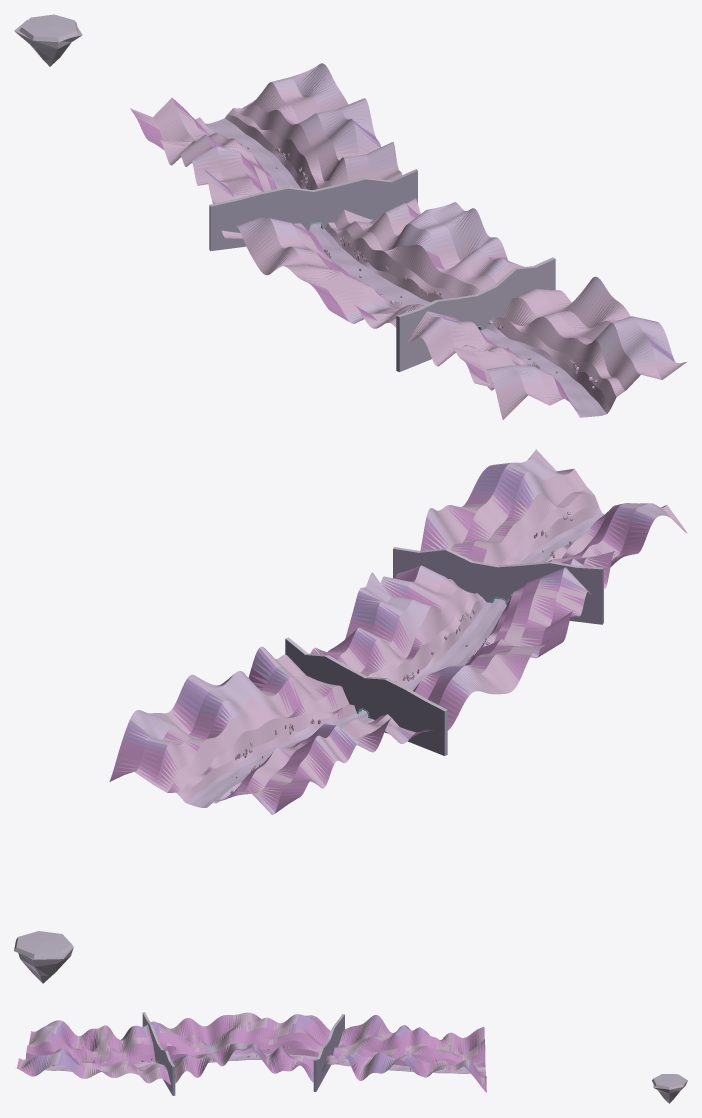
The model's file is level_4.glb.
3 renders of one model, top to bottom at view 1: azimuth 30°, elevation 25°; view 2: azimuth 150°, elevation 25°; view 3: azimuth 270°, elevation 25°, orthographic. The views are drawn at different scales.
Visible parts, largest first — view 1: terrain_3, terrain_1, terrain_0, terrain_6, terrain_5, wall_1, terrain_4, wall_0, terrain_2, terrain_7, landmark; view 2: terrain_6, terrain_0, terrain_2, terrain_3, terrain_5, terrain_4, terrain_1, wall_1, wall_0, terrain_7, landmark; view 3: terrain_3, terrain_1, terrain_4, terrain_0, terrain_5, terrain_2, terrain_6, terrain_7, wall_1, wall_0, landmark.
Part boxes in pixels (x1,y1,x2,y2): terrain_3: (264,202,487,323); terrain_1: (418,276,630,390); terrain_0: (468,316,686,419); terrain_6: (159,64,375,180); terrain_5: (191,119,402,225); wall_1: (209,169,417,251); terrain_4: (222,198,420,273); wall_0: (396,257,555,371); terrain_2: (354,235,554,341); terrain_7: (130,63,322,150); landmark: (14,14,82,66); terrain_6: (135,674,354,791); terrain_0: (463,449,687,567); terrain_2: (380,564,591,643); terrain_3: (345,572,567,690); terrain_5: (225,646,424,752); terrain_4: (310,627,511,737); terrain_1: (420,503,620,588); wall_1: (285,637,447,755); wall_0: (393,547,603,624); terrain_7: (109,712,304,814); landmark: (14,931,73,983); terrain_3: (198,1012,273,1070); terrain_1: (85,1025,161,1083); terrain_4: (270,1014,347,1082); terrain_0: (16,1020,87,1078); terrain_5: (325,1015,406,1080); terrain_2: (139,1018,217,1084); terrain_6: (383,1026,457,1077); terrain_7: (457,1027,486,1092); wall_1: (313,1014,344,1091); wall_0: (142,1012,175,1095); landmark: (652,1074,687,1103).
Bounding box in the file's own units: 557 × 296 × 2569.
